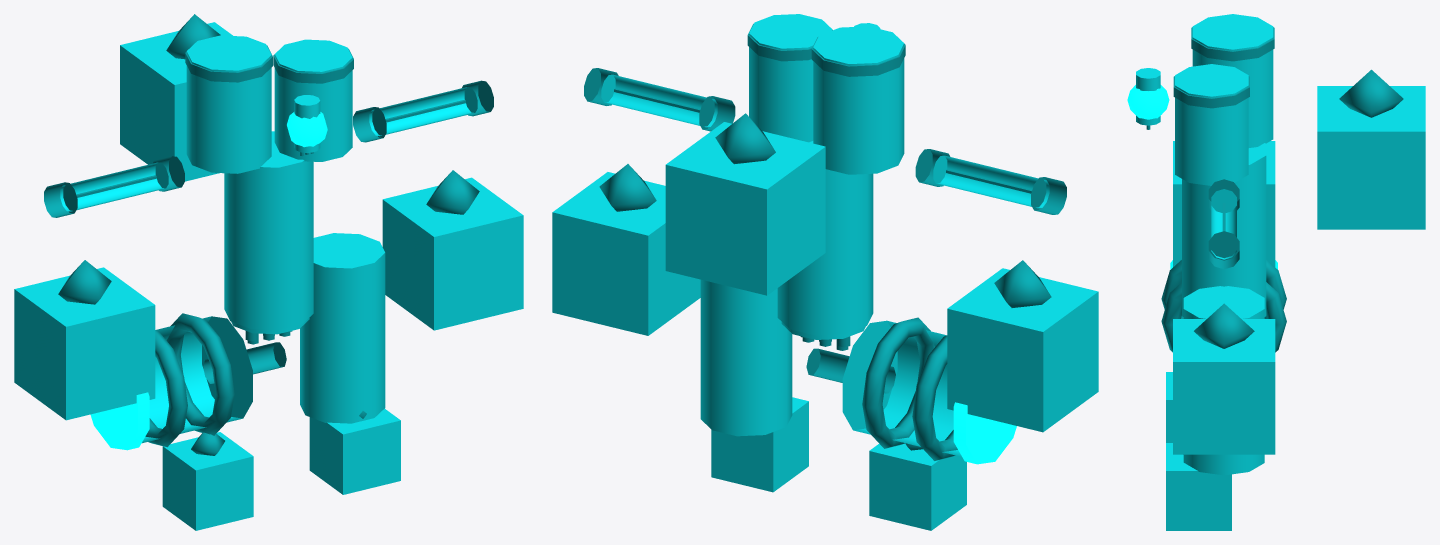
Rendered from golem_066.glb.
3 views of the same model, side by side, from view 1: azimuth 30°, elevation 25°; view 2: azimuth 150°, elevation 25°; view 3: azimuth 270°, elevation 25° (orthographic). The views are drawn at different scales.
Parts seen in each view (by area): view 1: Body, Detail, Glow; view 2: Body, Detail, Glow; view 3: Body, Detail, Glow.
Boxes of the visible parts, x1,y1,x2,y2 form: Body: (14, 22, 523, 530); Detail: (44, 14, 493, 455); Glow: (90, 112, 327, 450); Body: (552, 14, 1098, 530); Detail: (584, 23, 1066, 460); Glow: (953, 402, 1016, 464); Body: (1136, 14, 1425, 530); Detail: (1146, 27, 1403, 352); Glow: (1127, 85, 1277, 269).
Bounding box in the file's own units: 1.3 × 1.19 × 0.744.
